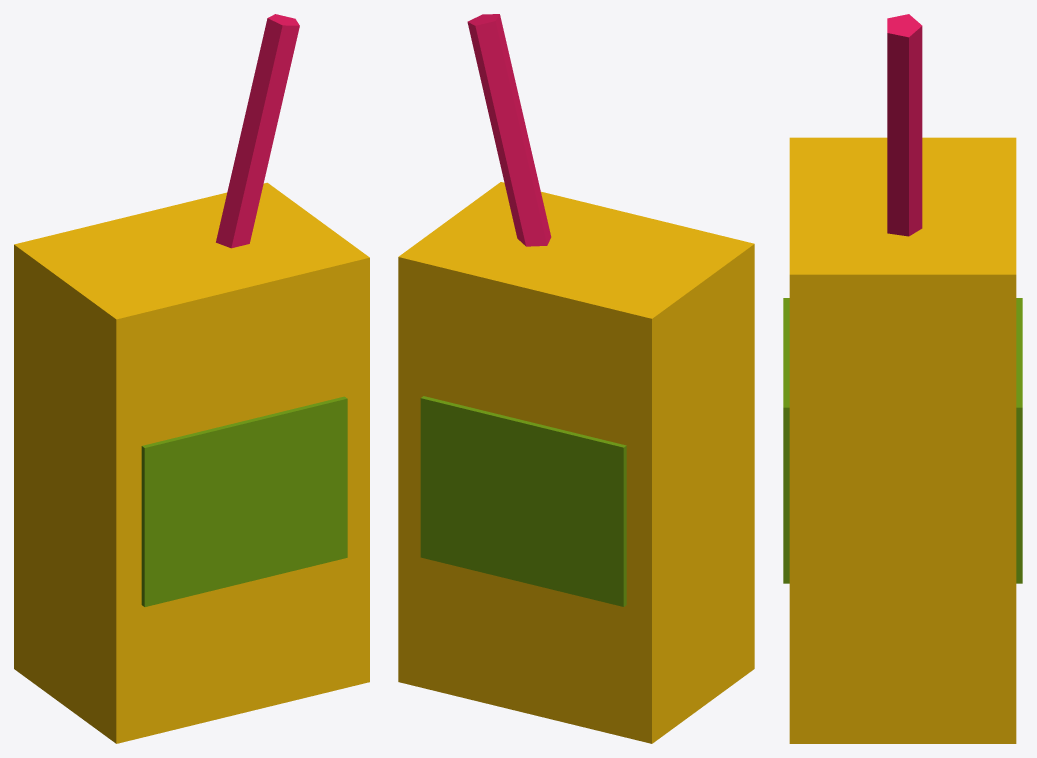
File: juice_box.obj
3 views of the same model, side by side, from view 1: azimuth 30°, elevation 25°; view 2: azimuth 150°, elevation 25°; view 3: azimuth 270°, elevation 25° (orthographic). The views are drawn at different scales.
Parts seen in each view (by area): view 1: juice_box; view 2: juice_box; view 3: juice_box.
Part boxes in pixels (box(x1,y1,x2,y2)): juice_box: box(14, 14, 369, 743); juice_box: box(398, 14, 754, 743); juice_box: box(783, 14, 1022, 743).
Bounding box in the file's own units: 0.05 × 0.1199 × 0.037.
